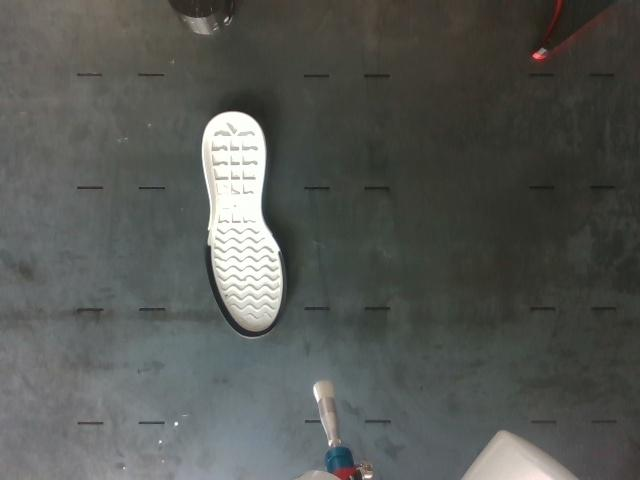shoes: (202, 112, 287, 337)
